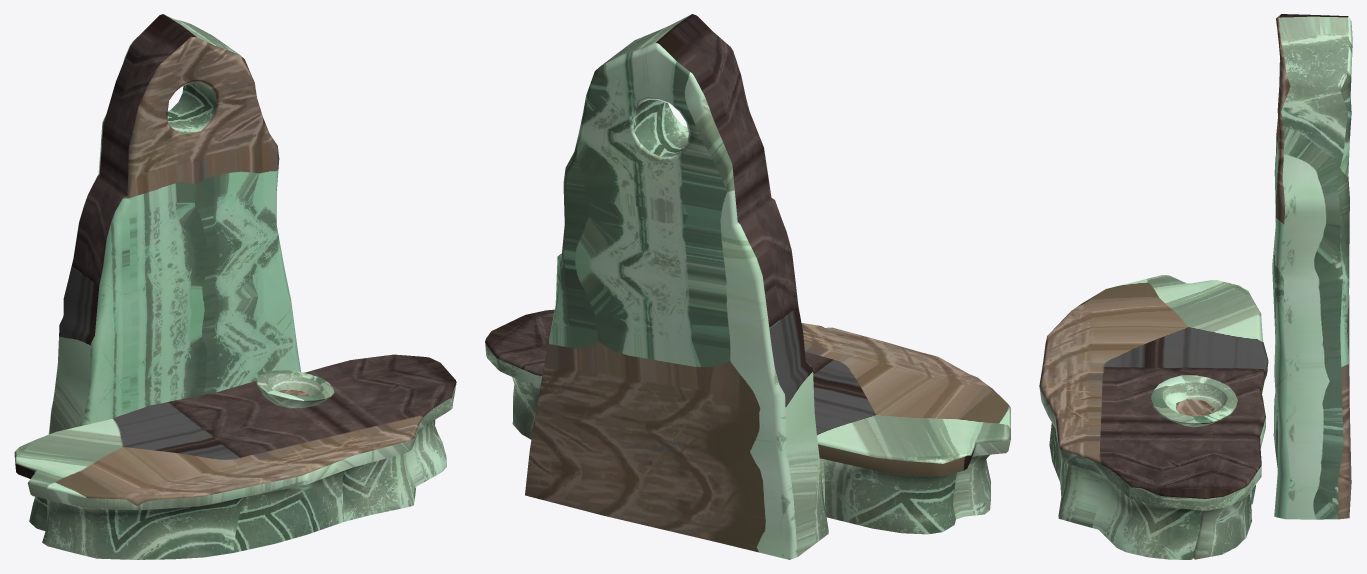
3 views of the same model, side by side, from view 1: azimuth 30°, elevation 25°; view 2: azimuth 150°, elevation 25°; view 3: azimuth 270°, elevation 25° (orthographic). The views are drawn at different scales.
Visible parts, largest first — view 1: SM_LoggingAxe_Adamant_2H_01_LOD0; view 2: SM_LoggingAxe_Adamant_2H_01_LOD0; view 3: SM_LoggingAxe_Adamant_2H_01_LOD0.
Part boxes in pixels (x1,y1,x2,y2): SM_LoggingAxe_Adamant_2H_01_LOD0: (14, 14, 456, 559); SM_LoggingAxe_Adamant_2H_01_LOD0: (485, 14, 1010, 559); SM_LoggingAxe_Adamant_2H_01_LOD0: (1039, 14, 1352, 559).
Size of the model in its own units: 4.82 by 4.49 by 2.87.
